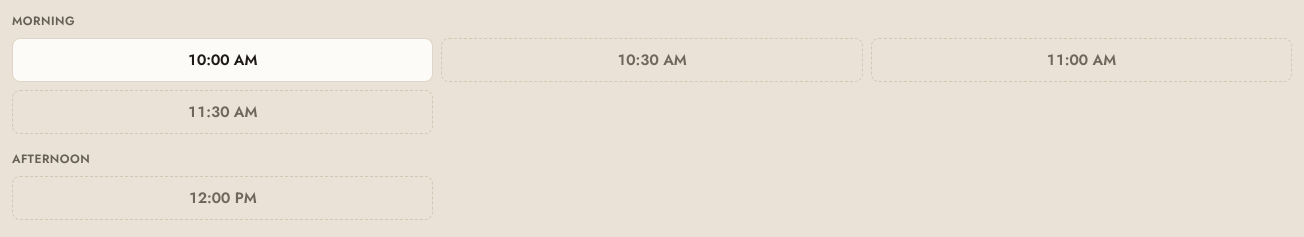
Test: a time that is not on offer › says why when pressed, and is not picked
The width and height of the screenshot is (1304, 237).
Step 1. Click the button "10:30 AM" → click(652, 60), box [441,38,863,82]
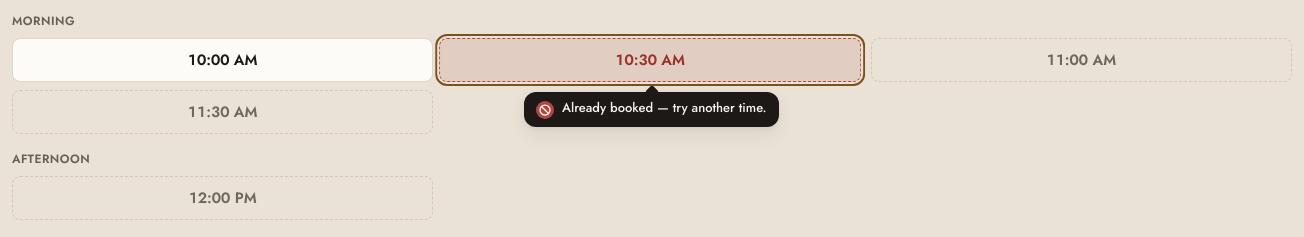
Now the tooltip reads "Already booked — try another time.", box [562,98,767,117]
